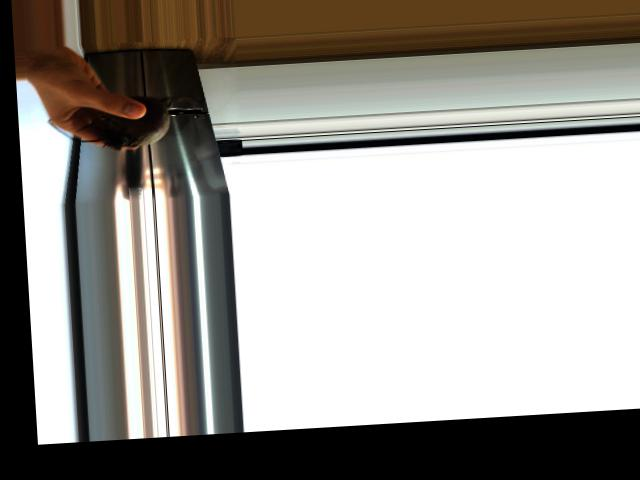beet: (47, 93, 183, 153)
